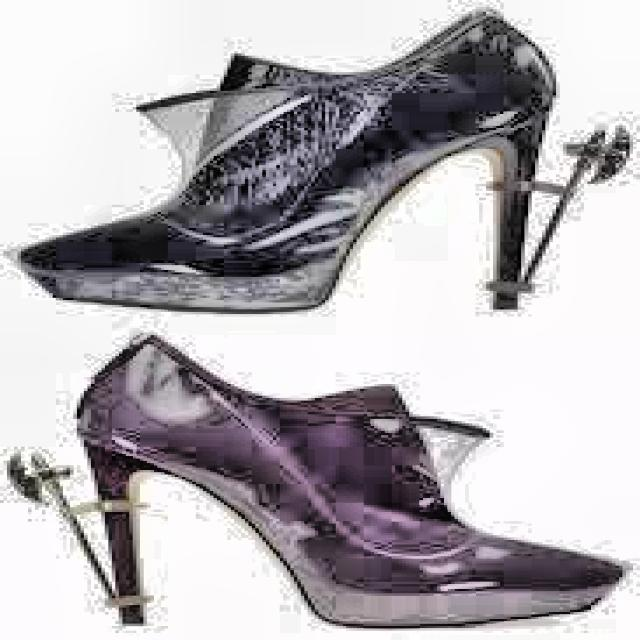shoes: (16, 2, 638, 622)
